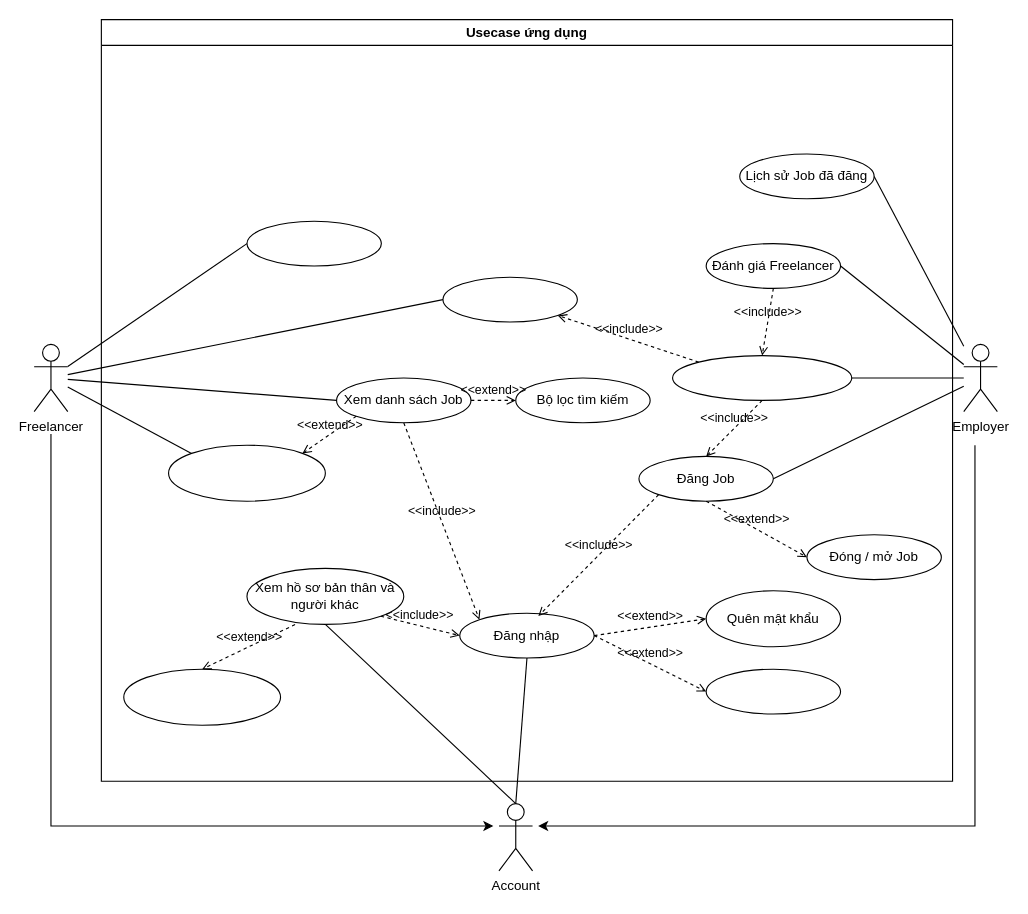
Image size: 1028x914. Some labels were removed from this diagram. The centre of each missing label's shape, as x and y in pixels:
Chỉnh sửa hồ sơ bản thân: the point at 202,696
Tuyển thành viên cho Job: the point at 761,377
Xem lịch sử Job đã nhận: the point at 246,472
Xin apply vào Job: the point at 509,299
Đánh giá Employer: the point at 313,243
Đăng ký: the point at 773,691
